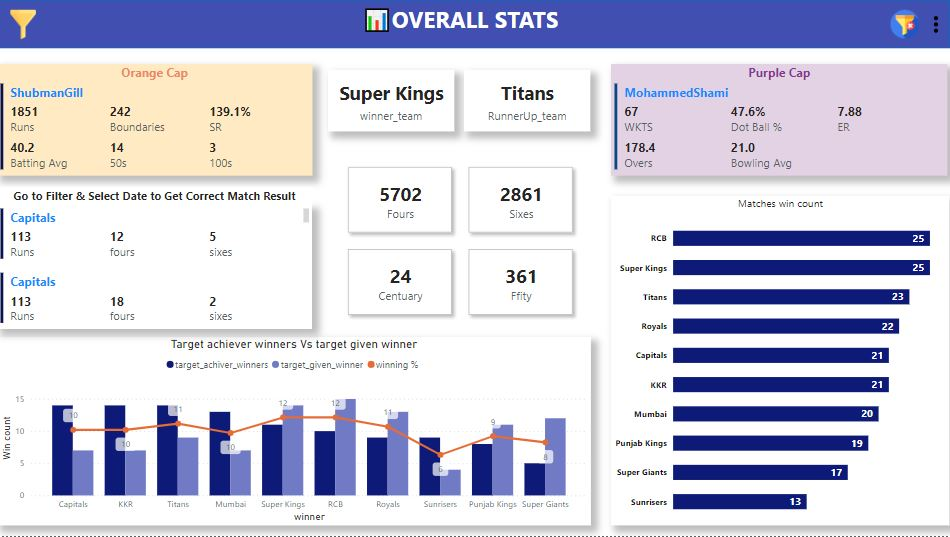

Layout of this report page (visuals, bound fields, positions):
{"tool":"powerbi","page":{"name":"Overall Stats","canvas":[1366,768],"ordinal":1},"visuals":[{"type":"shape","box":[0,0,1365.5,69.1],"z":0},{"type":"card","fields":{"Values":["team_measures.winner_team"]},"box":[474.6,100.4,181.2,87.6],"z":3000},{"type":"multiRowCard","title":"Orange Cap","fields":{"Values":["Min(fact_bating_summary.batsmanName)","batsman_measures.runs_by_batsman","batsman_measures.fours+sixes","batsman_measures.strike_rate","batsman_measures.batting_avg","batsman_measures.50_hit","batsman_measures.100_HIT"]},"box":[0,92.2,451.6,159.7],"z":4000},{"type":"multiRowCard","title":"Purple Cap","fields":{"Values":["Min(fact_bowling_summary.bowlerName)","bowlers_measures.wicket_taken","bowlers_measures.dot_ball %","bowlers_measures.economy_rate","bowlers_measures.total_overs","bowlers_measures.bowling_avg"]},"box":[880.1,92.2,482.3,159.7],"z":5000},{"type":"cardVisual","fields":{"Data":["batsman_measures.fours_hit_by_batsman","batsman_measures.sixes_hit_by_batsman","batsman_measures.100_HIT","batsman_measures.50_hit"]},"box":[485.4,222.7,357.9,247.3],"z":6000},{"type":"clusteredBarChart","title":"Matches win count","fields":{"Category":["dim_match_summary.winner"],"Y":["team_measures.teams_win"]},"box":[880.1,281.1,485.4,471.6],"z":7000},{"type":"card","fields":{"Values":["team_measures.RunnerUp_team"]},"box":[669.7,100.4,181.2,87.6],"z":8000},{"type":"image","box":[1274.9,0,50.7,69.1],"z":9000},{"type":"card","fields":{"Values":["Min(dim_match_summary.margin)"]},"box":[334.8,267.3,116.7,26.1],"z":10000},{"type":"lineClusteredColumnComboChart","title":"Target achiever winners Vs target given winner","fields":{"Category":["dim_match_summary.winner"],"Y":["team_measures.target_achiver_winners","team_measures.target_given_winner"],"Y2":["team_measures.winning %"]},"box":[0,482.3,850.9,270.3],"z":11000},{"type":"multiRowCard","fields":{"Values":["Total_runs_by_teams.teamInnings","Total_runs_by_teams.Runs","Total_runs_by_teams.fours","Total_runs_by_teams.sixes"]},"box":[0,293.4,451.6,176.6],"z":12000},{"type":"textbox","box":[514.6,0,299.5,69.1],"z":13000},{"type":"card","fields":{"Values":["team_measures.match_detail"]},"box":[0,267.3,451.6,26.1],"z":14000},{"type":"image","box":[1325.6,0,39.9,69.1],"z":15000},{"type":"image","box":[10.8,0,52.2,69.1],"z":17000}]}

Visuals, with their boxes in screenshot pixels (x1, y1, x2, y2), scaled from the page's 1366x768 canvas onto the 950x537 screenshot:
shape: {"x1": 0, "y1": 0, "x2": 949, "y2": 48}
card - team_measures.winner_team: {"x1": 330, "y1": 70, "x2": 456, "y2": 131}
"Orange Cap" multiRowCard: {"x1": 0, "y1": 64, "x2": 314, "y2": 176}
"Purple Cap" multiRowCard: {"x1": 612, "y1": 64, "x2": 947, "y2": 176}
cardVisual - batsman_measures.fours_hit_by_batsman x batsman_measures.sixes_hit_by_batsman: {"x1": 338, "y1": 156, "x2": 586, "y2": 329}
"Matches win count" clusteredBarChart: {"x1": 612, "y1": 197, "x2": 949, "y2": 526}
card - team_measures.RunnerUp_team: {"x1": 466, "y1": 70, "x2": 592, "y2": 131}
image: {"x1": 887, "y1": 0, "x2": 922, "y2": 48}
card - Min(dim_match_summary.margin): {"x1": 233, "y1": 187, "x2": 314, "y2": 205}
"Target achiever winners Vs target given winner" lineClusteredColumnComboChart: {"x1": 0, "y1": 337, "x2": 592, "y2": 526}
multiRowCard - Total_runs_by_teams.teamInnings x Total_runs_by_teams.Runs: {"x1": 0, "y1": 205, "x2": 314, "y2": 329}
textbox: {"x1": 358, "y1": 0, "x2": 566, "y2": 48}
card - team_measures.match_detail: {"x1": 0, "y1": 187, "x2": 314, "y2": 205}
image: {"x1": 922, "y1": 0, "x2": 949, "y2": 48}
image: {"x1": 8, "y1": 0, "x2": 44, "y2": 48}
